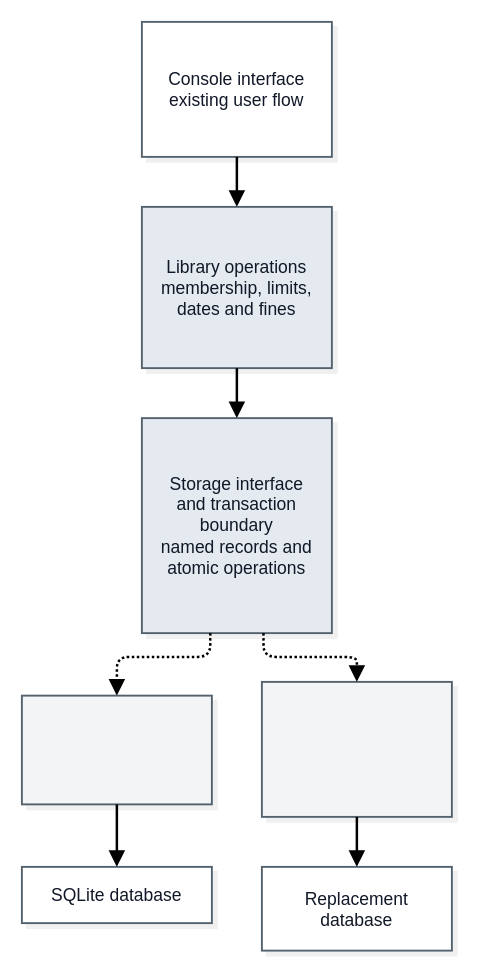
Some shapes in this 480 by 979 pixel diagram are drawn without their labels. The centre of each missing label's shape, as x and y in pixels:
"Replacement adapter equivalent behaviour" belongs at point 358,751.
"SQLite adapter baseline behaviour" belongs at point 118,752.
